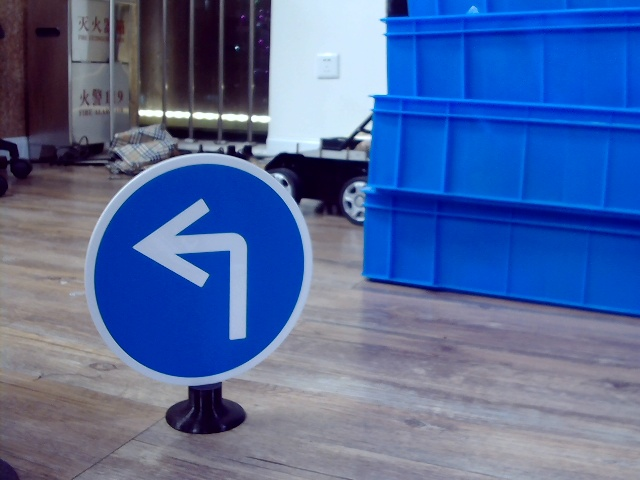turn_left: (134, 195, 254, 346)
